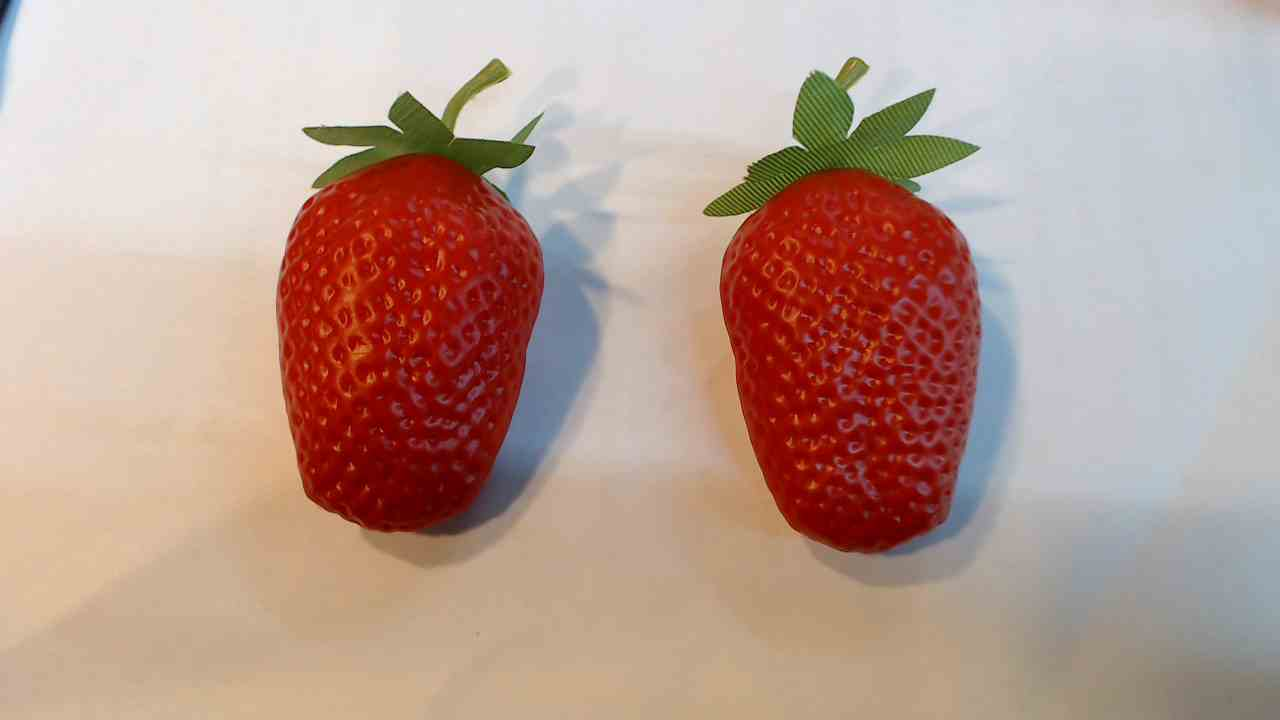strawberry: (267, 139, 546, 540), (713, 150, 981, 558)
